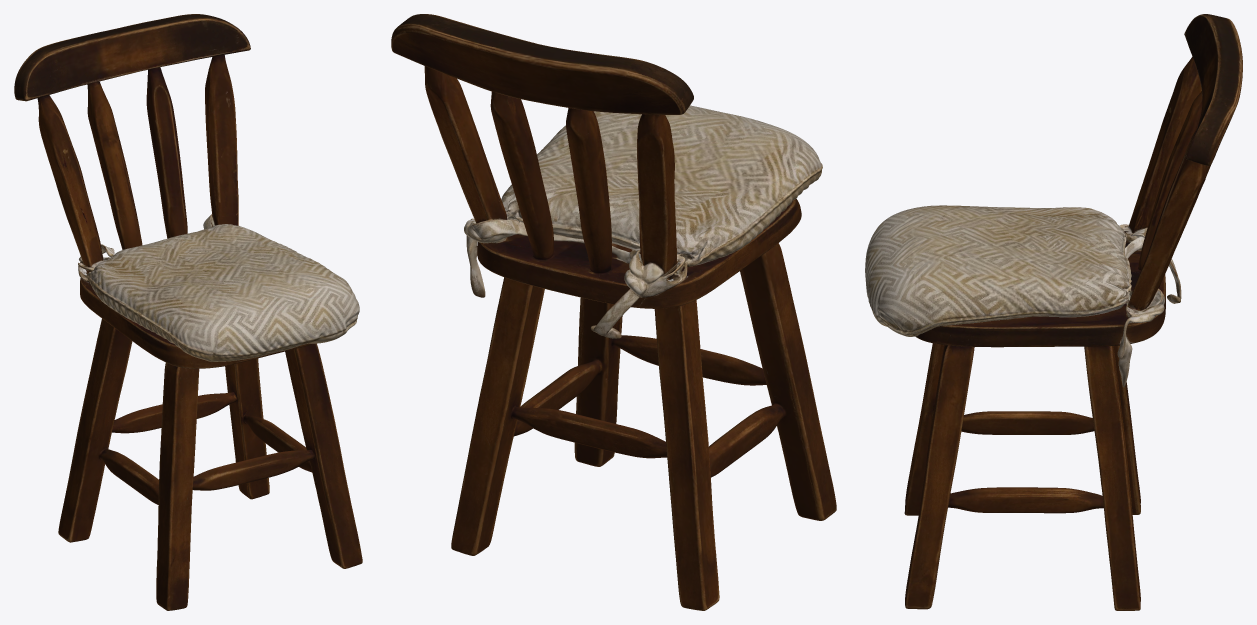
File: Sillacocina.glb
3 renders of one model, left to right at view 1: azimuth 30°, elevation 25°; view 2: azimuth 150°, elevation 25°; view 3: azimuth 270°, elevation 25°, orthographic. The views are drawn at different scales.
Bounding box in the file's own units: 0.3437 × 0.65 × 0.4461.
1 material, 1 textured.
